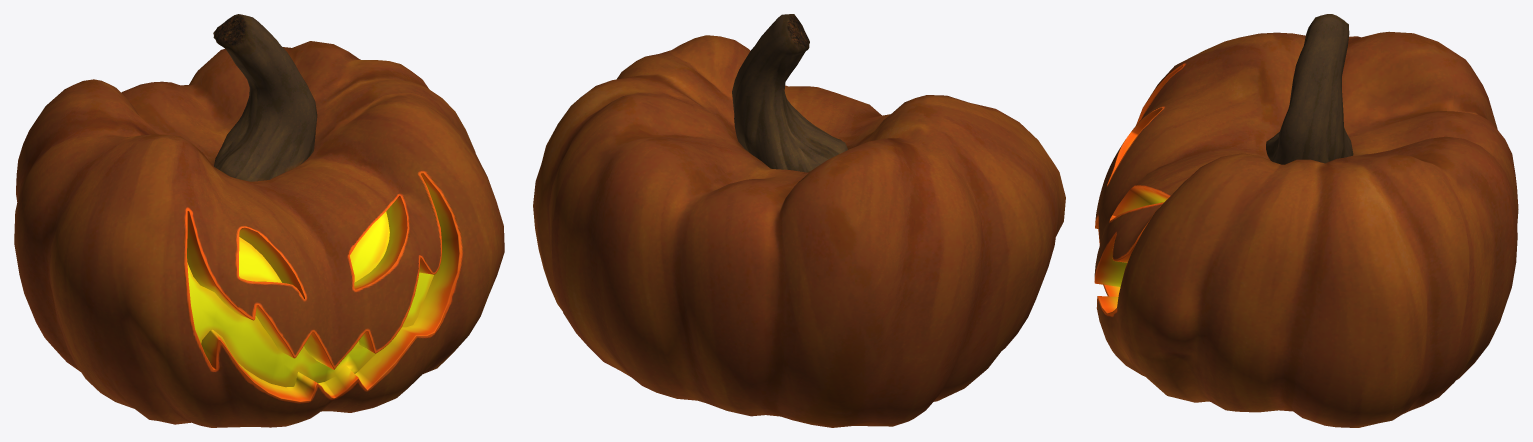
Rendered from pumpkin.fbx.
3 views of the same model, side by side, from view 1: azimuth 30°, elevation 25°; view 2: azimuth 150°, elevation 25°; view 3: azimuth 270°, elevation 25° (orthographic). The views are drawn at different scales.
Visible parts, largest first — view 1: node_id5; view 2: node_id5; view 3: node_id5.
Boxes of the visible parts, x1,y1,x2,y2 form: node_id5: (14,14,504,427); node_id5: (533,14,1065,427); node_id5: (1094,14,1518,427).
Bounding box in the file's own units: 0.512 × 0.4001 × 0.441.
Materials: 1 (1 with a texture image).
